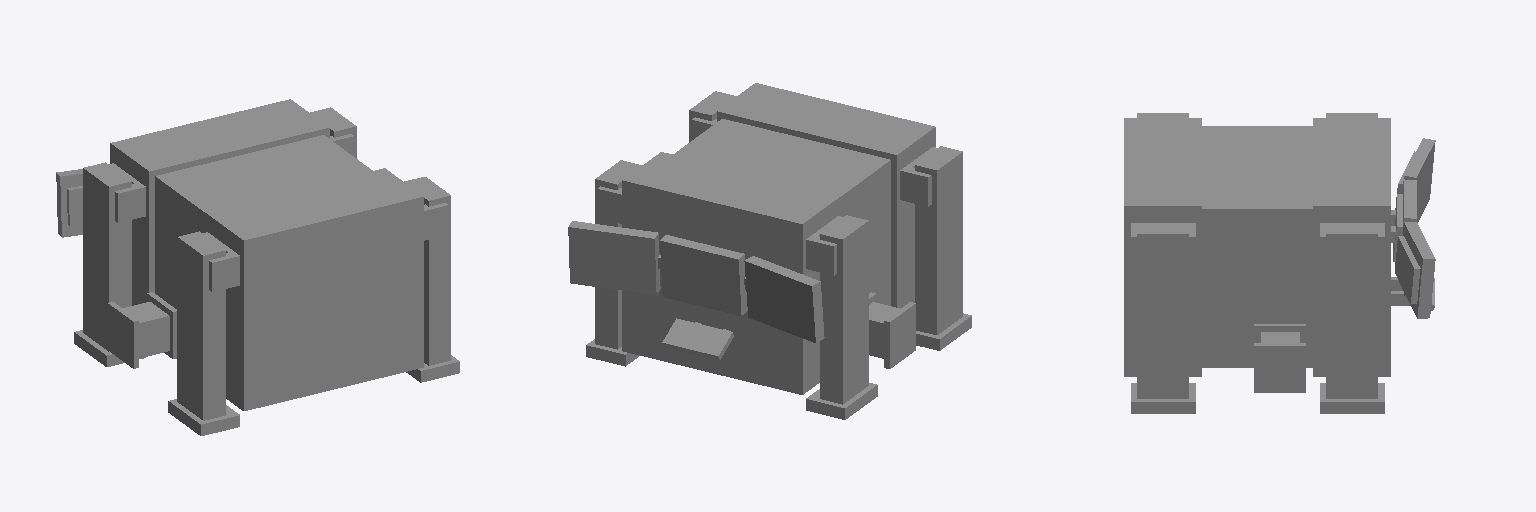
Rendered from digital_miner.obj.
3 views of the same model, side by side, from view 1: azimuth 30°, elevation 25°; view 2: azimuth 150°, elevation 25°; view 3: azimuth 270°, elevation 25° (orthographic).
Parts seen in each view (by area): view 1: core, support_beams, power_connector_2, monitors; view 2: core, support_beams, monitors, power_connector_2, keyboard; view 3: core, support_beams, monitors, power_connector_2.
Boxes of the visible parts, x1=… form: core: x1=110, y1=99, x2=423, y2=410; support_beams: x1=74, y1=107, x2=459, y2=435; power_connector_2: x1=108, y1=292, x2=176, y2=368; monitors: x1=56, y1=169, x2=82, y2=237; core: x1=622, y1=83, x2=935, y2=394; support_beams: x1=586, y1=91, x2=971, y2=419; monitors: x1=568, y1=221, x2=824, y2=342; power_connector_2: x1=869, y1=292, x2=915, y2=368; keyboard: x1=662, y1=318, x2=733, y2=359; core: x1=1124, y1=118, x2=1390, y2=376; support_beams: x1=1131, y1=113, x2=1384, y2=413; monitors: x1=1391, y1=138, x2=1435, y2=318; power_connector_2: x1=1254, y1=324, x2=1305, y2=392.
Size of the model in its own units: 3 by 2 by 2.99.